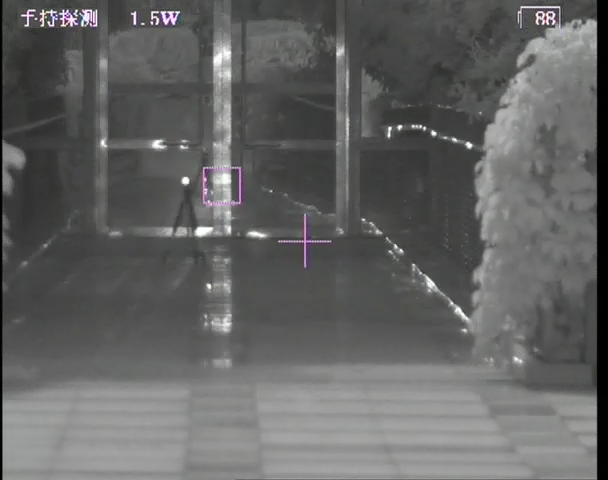my: (181, 175, 191, 186)
